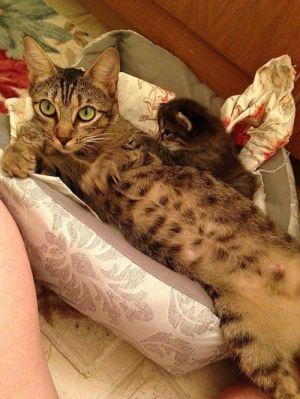bengal: (15, 30, 132, 157)
